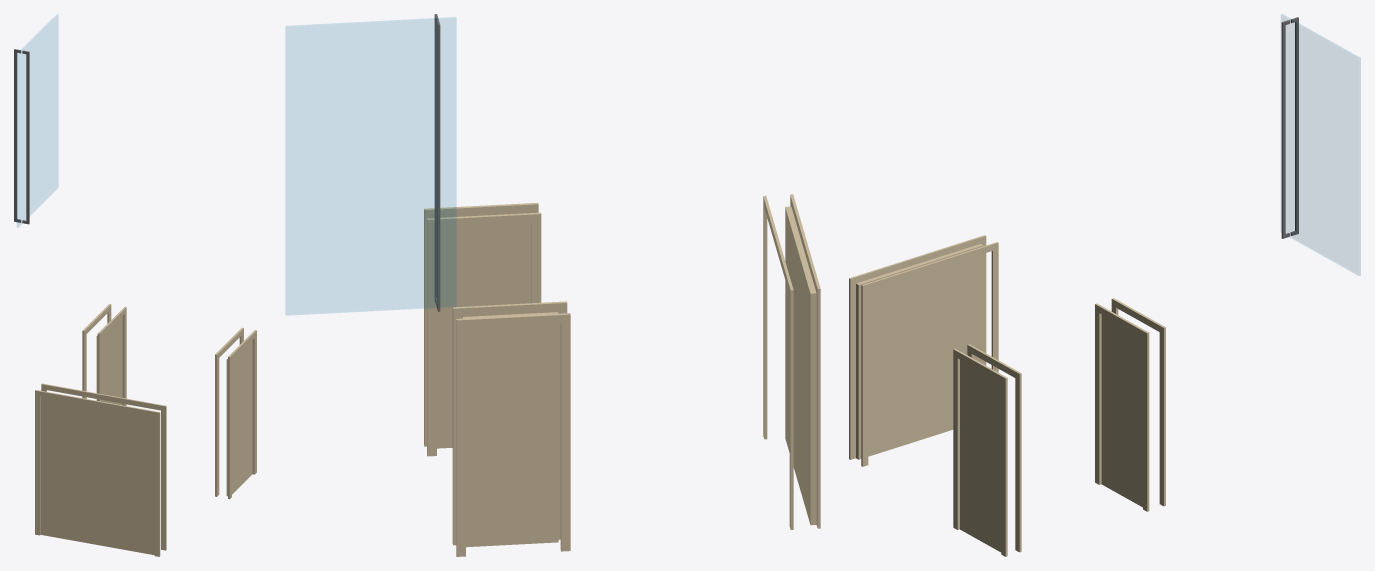
File: rac_basic_sample_project_Level_1_IfcDoor.dae
3 renders of one model, left to right at view 1: azimuth 30°, elevation 25°; view 2: azimuth 150°, elevation 25°; view 3: azimuth 270°, elevation 25°, orthographic. The views are drawn at different scales.
Parts seen in each view (by area): view 1: 3ZIDsN8zH68xhTQShTFm6o, 1PDnLIM013wvkZO9Lb4$i6, 1$p8tACJ938vr1_lKOJJ9g, 1PDnLIM013wvkZO9Lb4$s7; view 2: 1PDnLIM013wvkZO9Lb4$i6, 1PDnLIM013wvkZO9Lb4$s7, 1$p8tACJ938vr1_lKOJJ9g, 3ZIDsN8zH68xhTQShTFm6o; view 3: 3ZIDsN8zH68xhTQShTFm6o, 1PDnLIM013wvkZO9Lb4$i6, 1PDnLIM013wvkZO9Lb4$s7, 1$p8tACJ938vr1_lKOJJ9g.
Boxes of the visible parts, x1,y1,x2,y2 form: 3ZIDsN8zH68xhTQShTFm6o: (35, 383, 166, 556); 1PDnLIM013wvkZO9Lb4$i6: (14, 14, 57, 227); 1$p8tACJ938vr1_lKOJJ9g: (215, 327, 256, 499); 1PDnLIM013wvkZO9Lb4$s7: (82, 304, 126, 405); 1PDnLIM013wvkZO9Lb4$i6: (286, 14, 455, 314); 1PDnLIM013wvkZO9Lb4$s7: (452, 301, 570, 556); 1$p8tACJ938vr1_lKOJJ9g: (424, 202, 541, 456); 3ZIDsN8zH68xhTQShTFm6o: (763, 194, 820, 529); 3ZIDsN8zH68xhTQShTFm6o: (849, 235, 998, 466); 1PDnLIM013wvkZO9Lb4$i6: (1281, 14, 1360, 275); 1PDnLIM013wvkZO9Lb4$s7: (1095, 298, 1165, 511); 1$p8tACJ938vr1_lKOJJ9g: (953, 344, 1021, 556).
Size of the model in its own units: 3.69 by 5.67 by 5.66.
